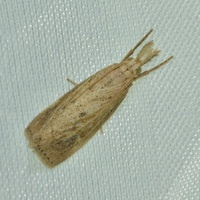insect: (25, 29, 172, 167)
